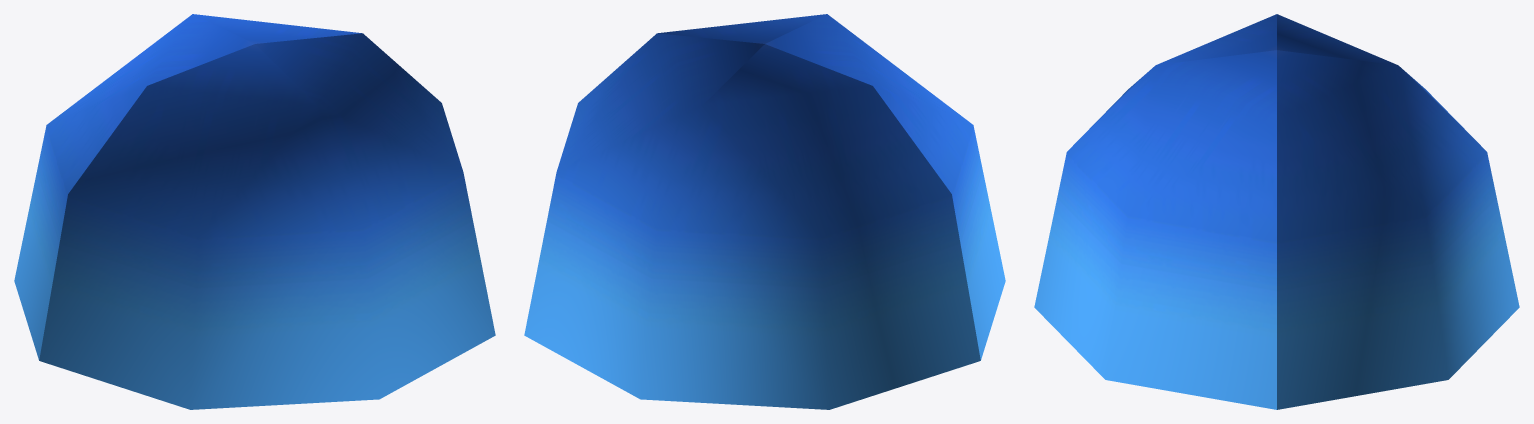
The model's file is Skybox_Fairy.obj.
The picture shows the model from 3 angles, left to right: view 1: azimuth 30°, elevation 25°; view 2: azimuth 150°, elevation 25°; view 3: azimuth 270°, elevation 25°; orthographic projection. The views are drawn at different scales.
Visible parts, largest first — view 1: Fairy1_BaclskyboxShape_Fairy1_BaclskyboxShape; view 2: Fairy1_BaclskyboxShape_Fairy1_BaclskyboxShape; view 3: Fairy1_BaclskyboxShape_Fairy1_BaclskyboxShape.
Part boxes in pixels (<box>): Fairy1_BaclskyboxShape_Fairy1_BaclskyboxShape: <box>14,14,495,409</box>; Fairy1_BaclskyboxShape_Fairy1_BaclskyboxShape: <box>524,14,1005,409</box>; Fairy1_BaclskyboxShape_Fairy1_BaclskyboxShape: <box>1034,14,1519,409</box>.
Bounding box in the file's own units: 3487 × 2040 × 3487.
